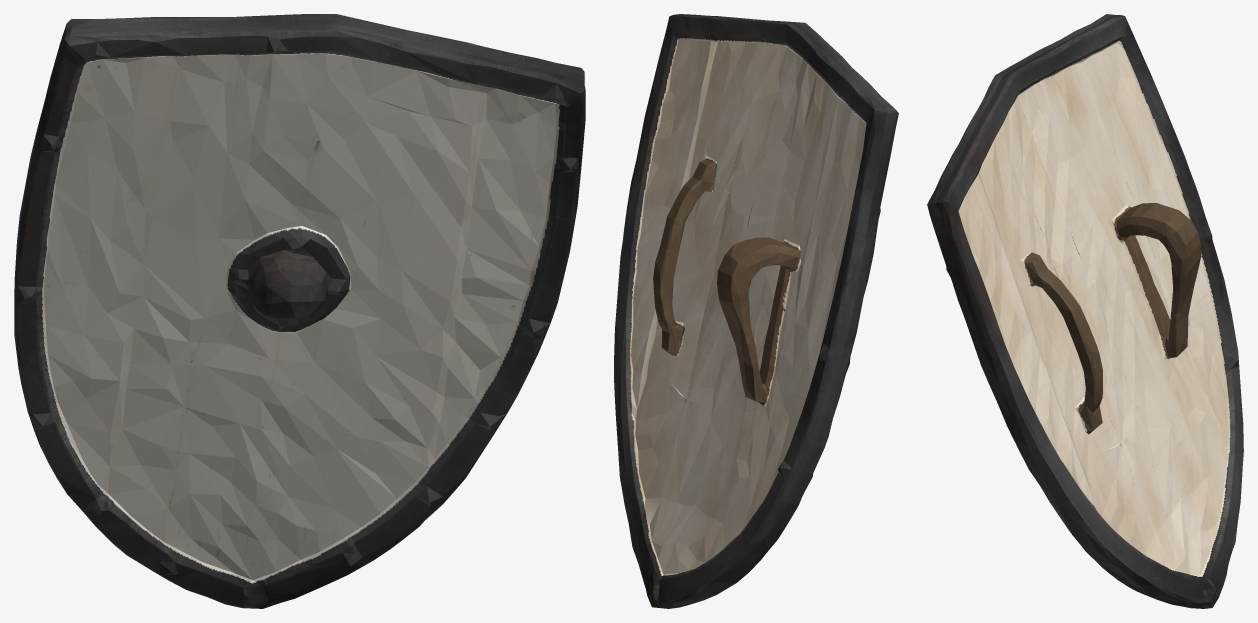
File: shield.fbx
3 renders of one model, left to right at view 1: azimuth 30°, elevation 25°; view 2: azimuth 150°, elevation 25°; view 3: azimuth 270°, elevation 25°, orthographic. The views are drawn at different scales.
Parts seen in each view (by area): view 1: Mesh_0; view 2: Mesh_0; view 3: Mesh_0.
Boxes of the visible parts, <box> form: Mesh_0: <box>14,14,585,608</box>; Mesh_0: <box>614,14,898,608</box>; Mesh_0: <box>927,14,1243,608</box>.
Bounding box in the file's own units: 0.6141 × 0.95 × 0.5271.
Materials: 1 (1 with a texture image).
